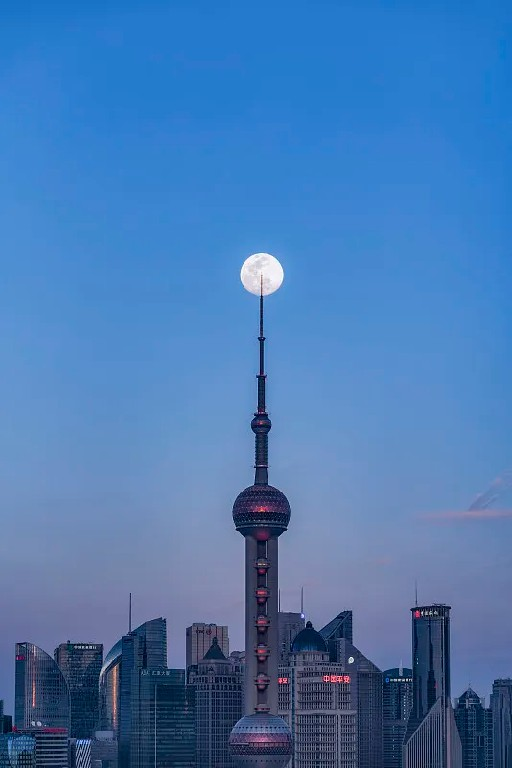Oriental: (227, 272, 292, 768)
